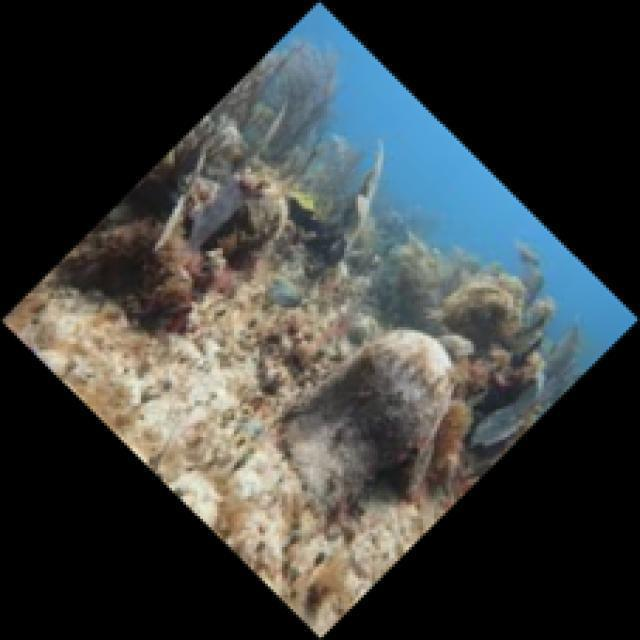Dead Coral: (252, 291, 483, 516), (265, 128, 412, 311), (436, 237, 566, 421)
